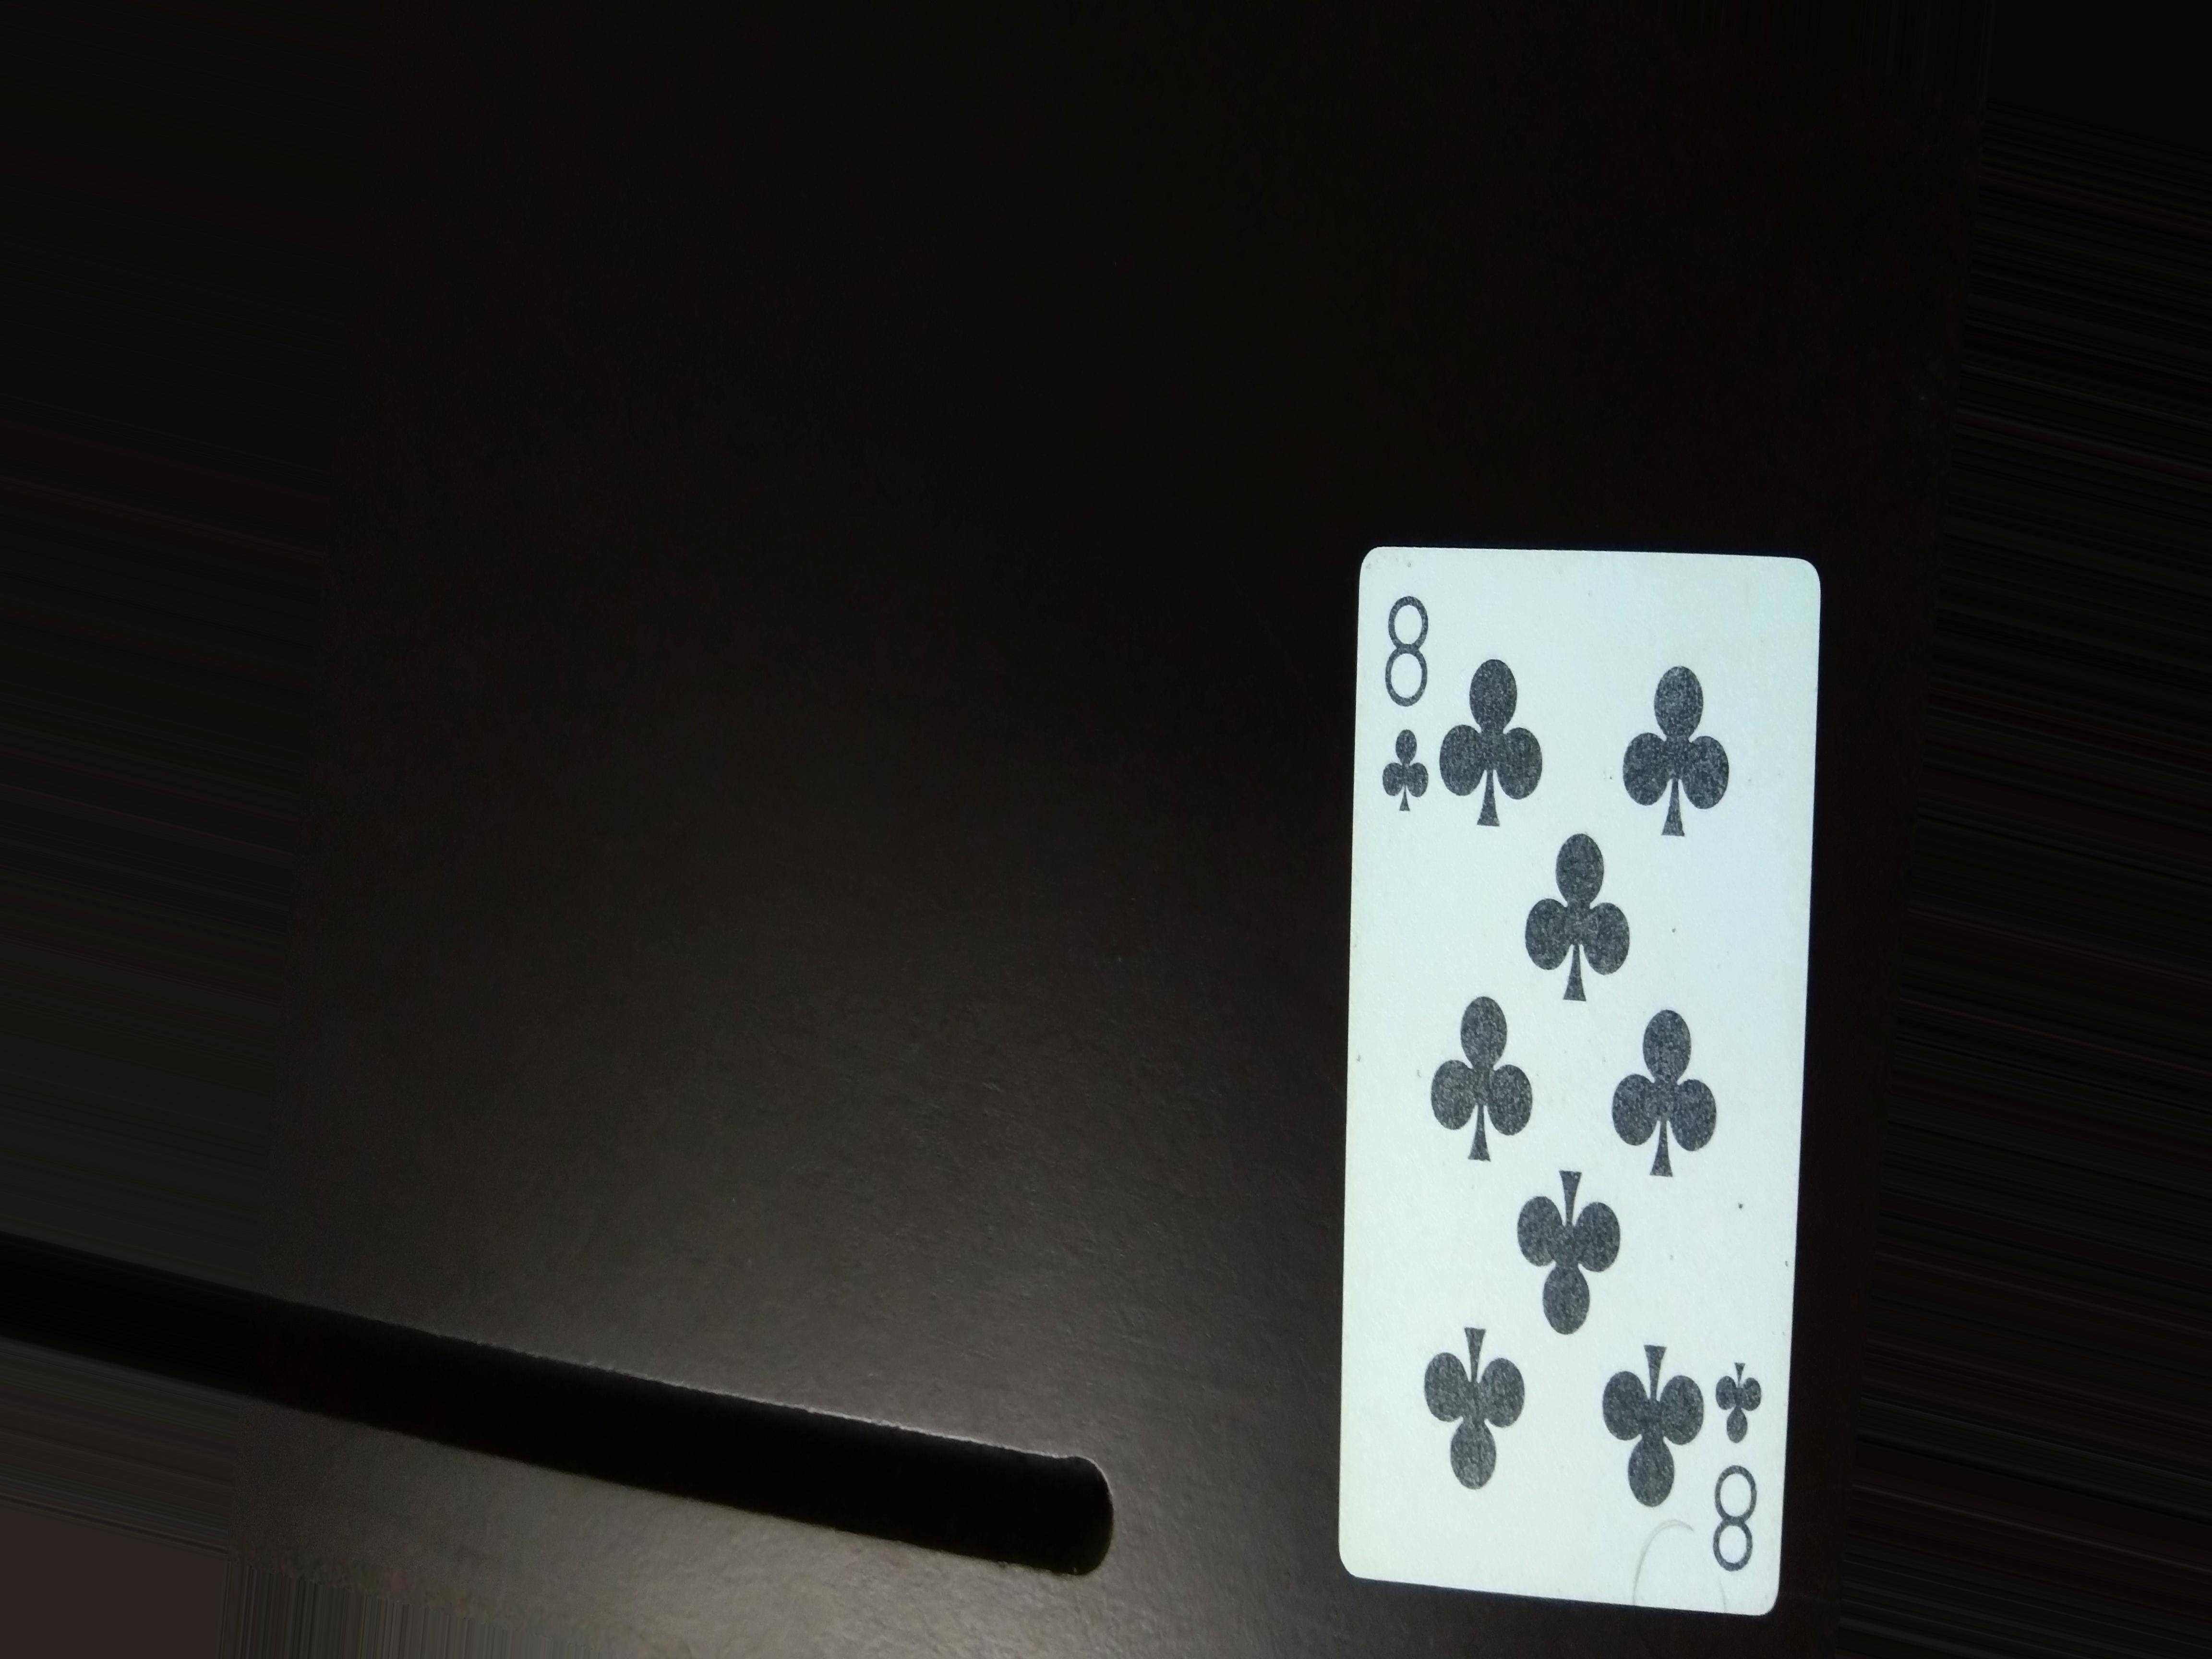8C: (1367, 570, 1433, 833)
